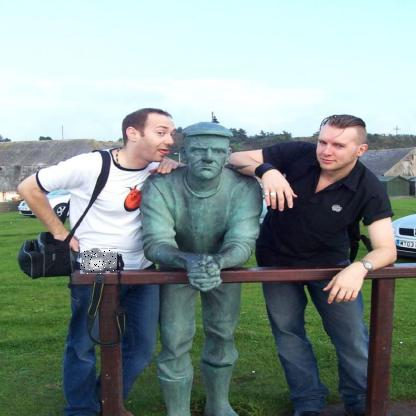Camera: (81, 249, 119, 276)
